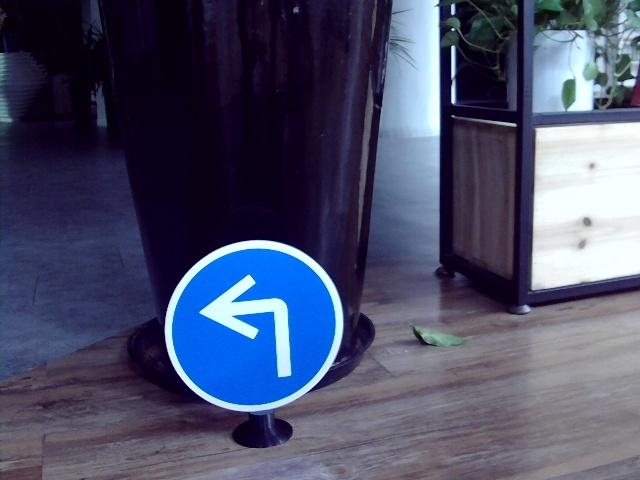turn_left: (200, 273, 299, 379)
